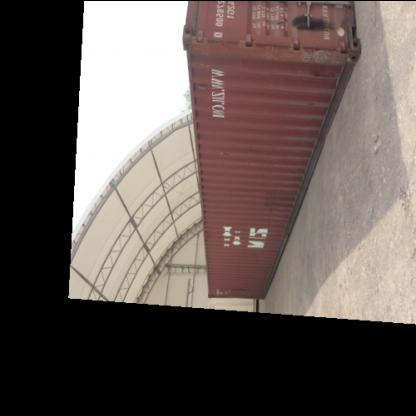Damage: (296, 44, 348, 82), (260, 179, 296, 229), (218, 276, 261, 297), (285, 15, 338, 31), (192, 76, 208, 96), (215, 147, 233, 159)
